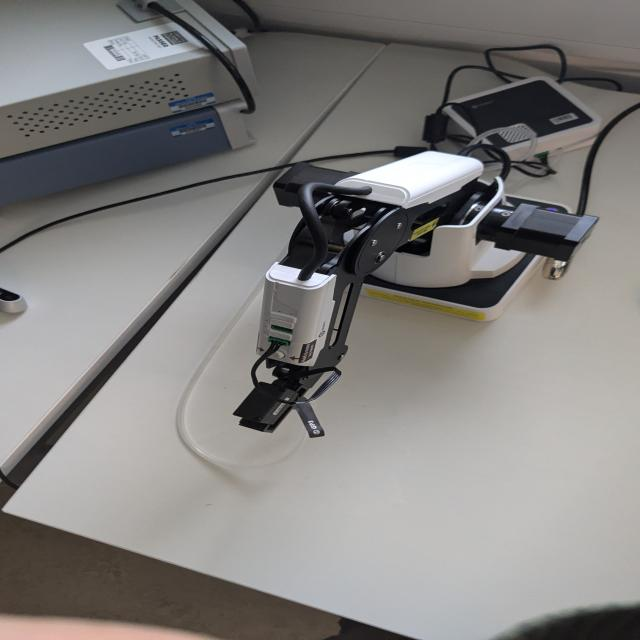Robot-end-effector-HF8z: (230, 377, 306, 435)
